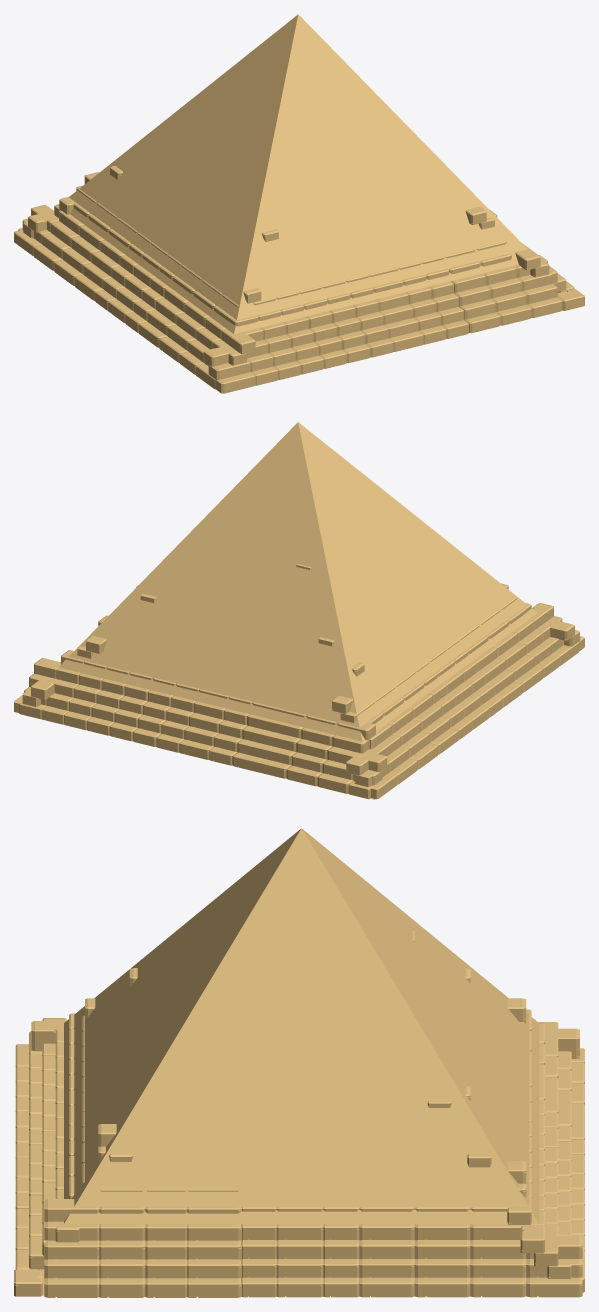
Rendered from Pyramids03.fbx.
The picture shows the model from 3 angles, top to bottom: view 1: azimuth 30°, elevation 25°; view 2: azimuth 150°, elevation 25°; view 3: azimuth 270°, elevation 25°; orthographic projection. The views are drawn at different scales.
Parts seen in each view (by area): view 1: III.pyramid; view 2: III.pyramid; view 3: III.pyramid.
Part boxes in pixels (x1,y1,x2,y2): III.pyramid: [14, 14, 584, 393]; III.pyramid: [14, 422, 584, 799]; III.pyramid: [14, 828, 584, 1297].
Size of the model in its own units: 7060 by 4782 by 7070.
